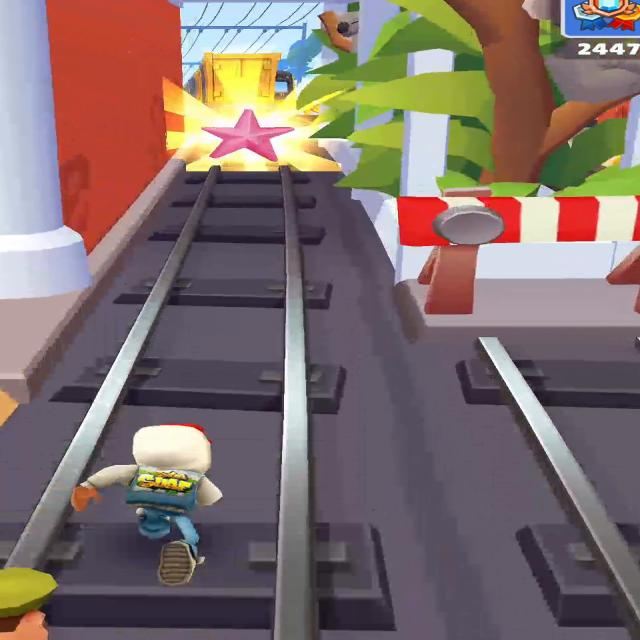block pillar: (297, 0, 639, 336)
train: (194, 53, 280, 107)
